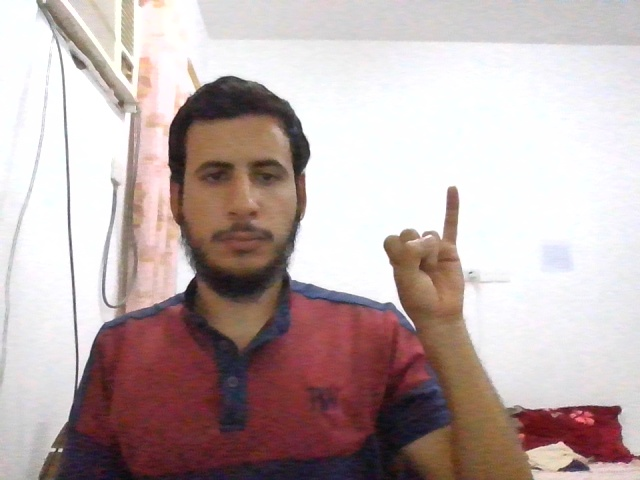One: (383, 186, 465, 314)
